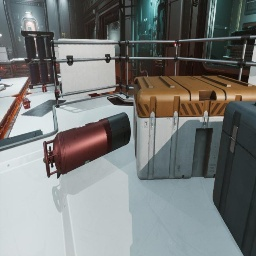0: (0, 85, 4, 90), (24, 58, 27, 60), (57, 76, 59, 78)
EmergencyPhone ,: (18, 36, 21, 41)
FireExtinguisher ]: (60, 83, 62, 85), (59, 71, 60, 74)
FirstAidBox ,: (22, 98, 31, 109), (54, 89, 60, 98), (42, 84, 47, 92)
NitrogenTank ,: (43, 112, 131, 178), (40, 76, 41, 79)
SafetySwitchPanel ,: (51, 30, 55, 40)
